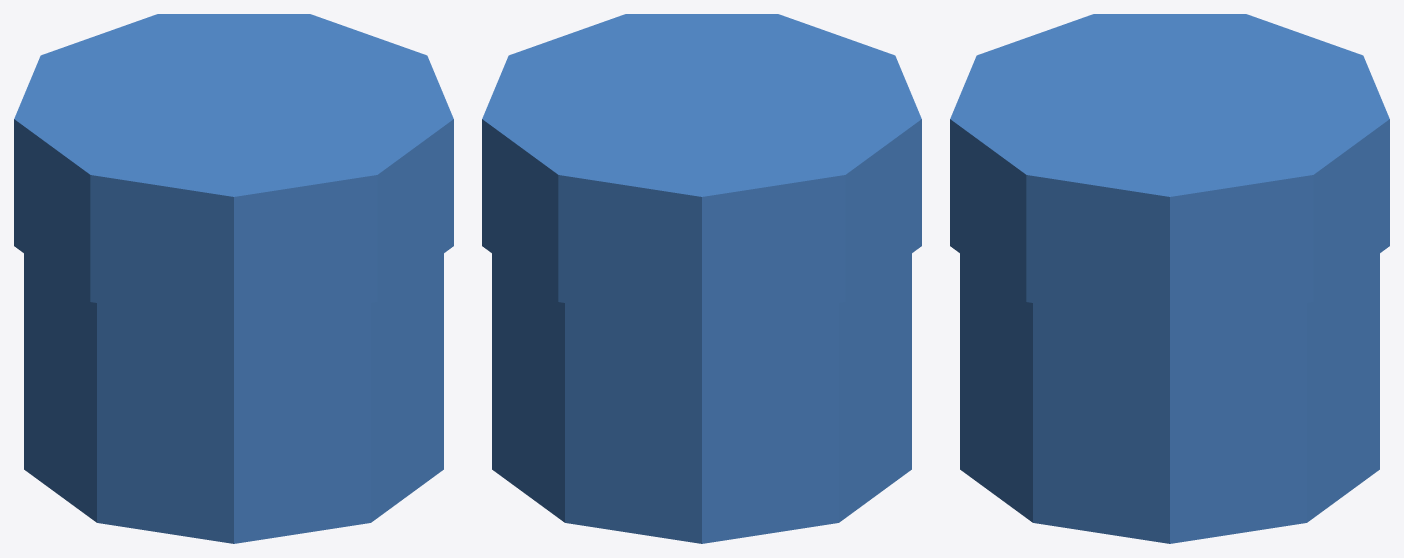
Rendered from Office2_box_5.fbx.
3 views of the same model, side by side, from view 1: azimuth 30°, elevation 25°; view 2: azimuth 150°, elevation 25°; view 3: azimuth 270°, elevation 25° (orthographic).
Visible parts, largest first — view 1: Office2_box_5; view 2: Office2_box_5; view 3: Office2_box_5.
Part boxes in pixels (box(x1,y1,x2,y2)): Office2_box_5: box(14, 14, 453, 543); Office2_box_5: box(482, 14, 921, 543); Office2_box_5: box(950, 14, 1389, 543).
Bounding box in the file's own units: 11.05 × 9.89 × 11.22.
